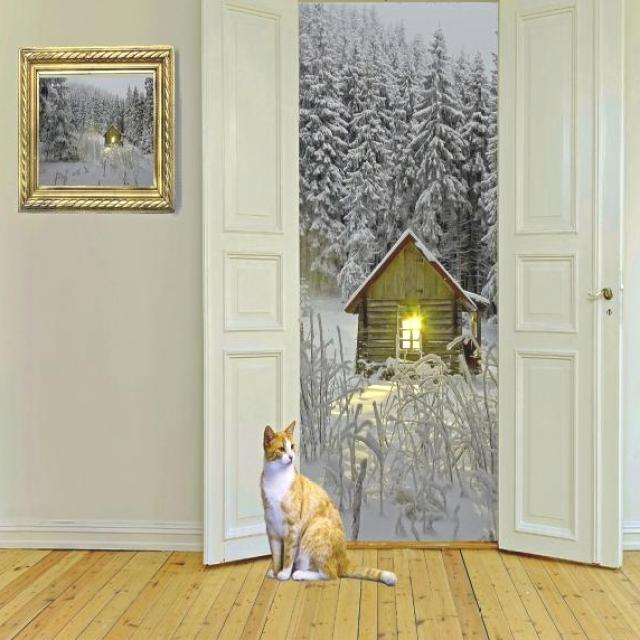door: (495, 0, 627, 568)
